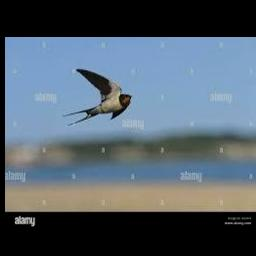Swallow: (63, 68, 131, 125)
